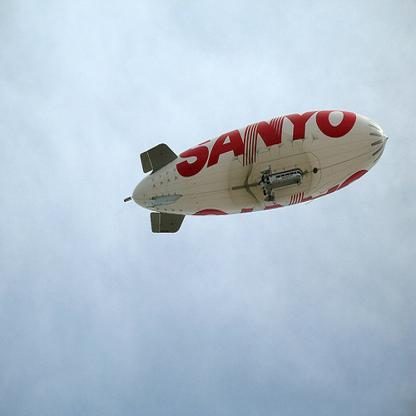Airship: (124, 107, 390, 239)
